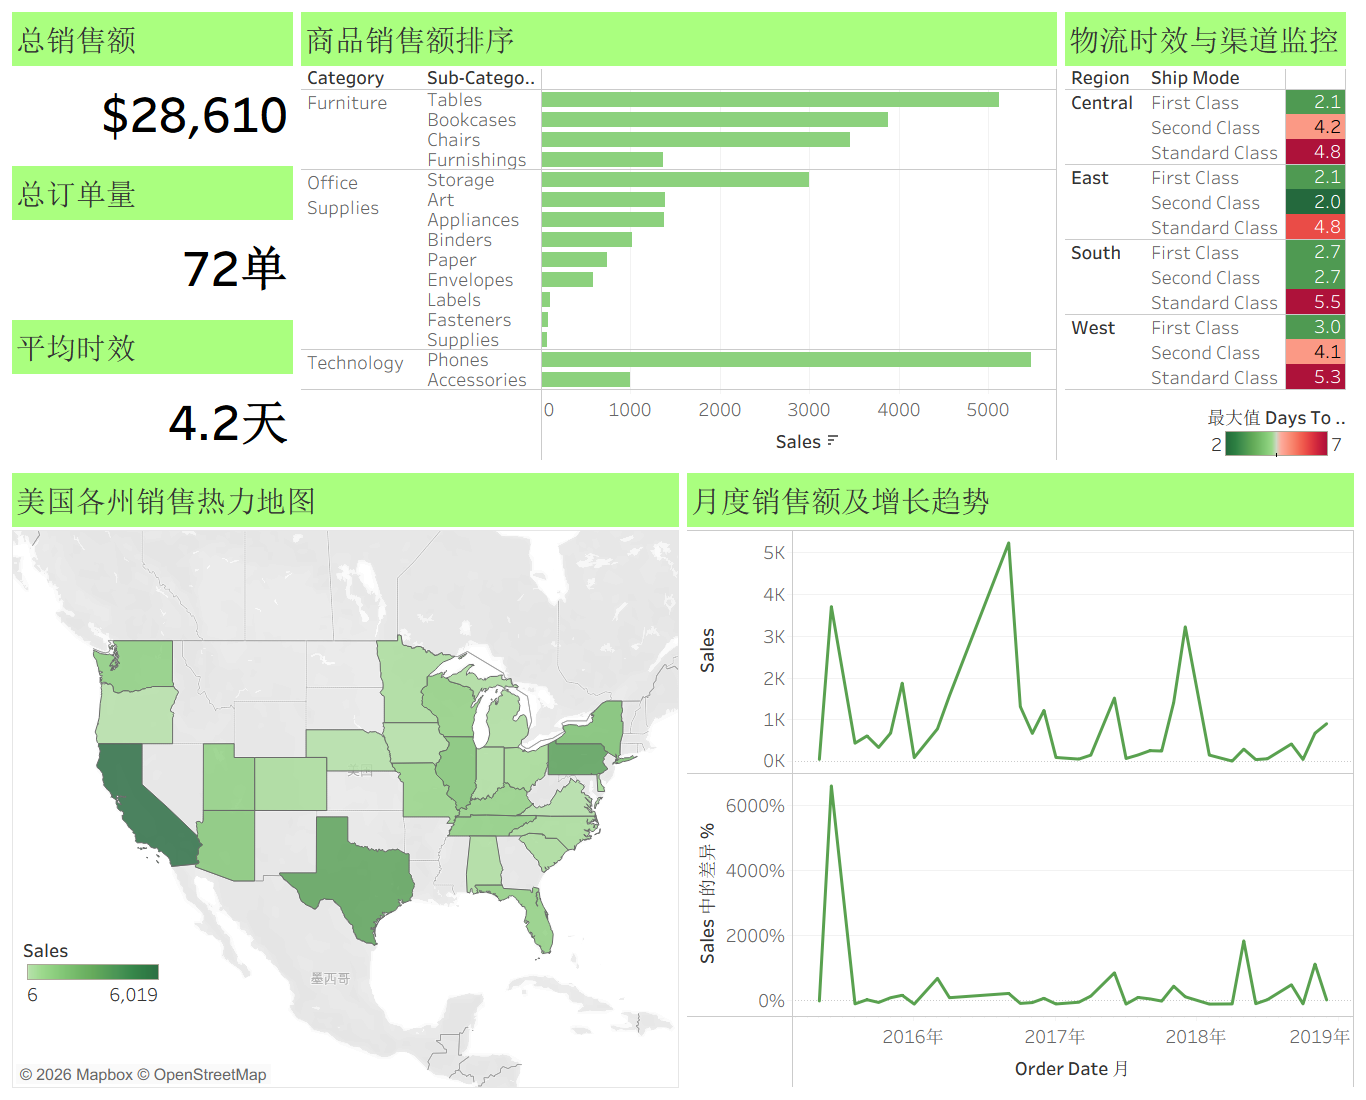

What the dashboard file says about the page in this screenshot:
{"tool":"tableau","page":{"name":"超市综合运营看板","canvas":[1366,1100],"ordinal":0},"visuals":[{"type":"worksheet","title":"总销售额","mark":"Automatic","box":[8,8,243,152]},{"type":"worksheet","title":"商品销售额排序","mark":"Automatic","rows":["Category","Sub-Category","Product Name"],"cols":["sales"],"box":[250.8,8,810.2,455]},{"type":"worksheet","title":"物流时效与渠道监控","mark":"Square","rows":["Region","Ship Mode"],"box":[1061,8,297,455]},{"type":"worksheet","title":"总订单量","mark":"Automatic","box":[8,160,243,152]},{"type":"worksheet","title":"平均时效","mark":"Automatic","box":[8,312,243,151]},{"type":"legend","title":"物流时效与渠道监控","param":"[federated.0d1joxj1ywr5c51f0hjic155zfv0].[max:days_to_ship:qk]","box":[1209,398,140,59]},{"type":"worksheet","title":"美国各州销售热力地图","mark":"Multipolygon","box":[8,463,675,629]},{"type":"worksheet","title":"月度销售额及增长趋势","mark":"Automatic","rows":["sales","sales"],"cols":["order_date"],"box":[683,463,675,629]},{"type":"legend","title":"美国各州销售热力地图","param":"[federated.0d1joxj1ywr5c51f0hjic155zfv0].[sum:sales:qk]","box":[23,932.7,140,114.6]}]}

Visuals, with their boxes in screenshot pixels (x1, y1, x2, y2), scaled from the page's 1366x1100 canvas onto the 1366x1100 screenshot:
"总销售额" worksheet: Rect(8, 8, 251, 160)
"商品销售额排序" worksheet: Rect(251, 8, 1061, 463)
"物流时效与渠道监控" worksheet (Square marks): Rect(1061, 8, 1358, 463)
"总订单量" worksheet: Rect(8, 160, 251, 312)
"平均时效" worksheet: Rect(8, 312, 251, 463)
"物流时效与渠道监控" legend: Rect(1209, 398, 1349, 457)
"美国各州销售热力地图" worksheet (Multipolygon marks): Rect(8, 463, 683, 1092)
"月度销售额及增长趋势" worksheet: Rect(683, 463, 1358, 1092)
"美国各州销售热力地图" legend: Rect(23, 933, 163, 1047)
